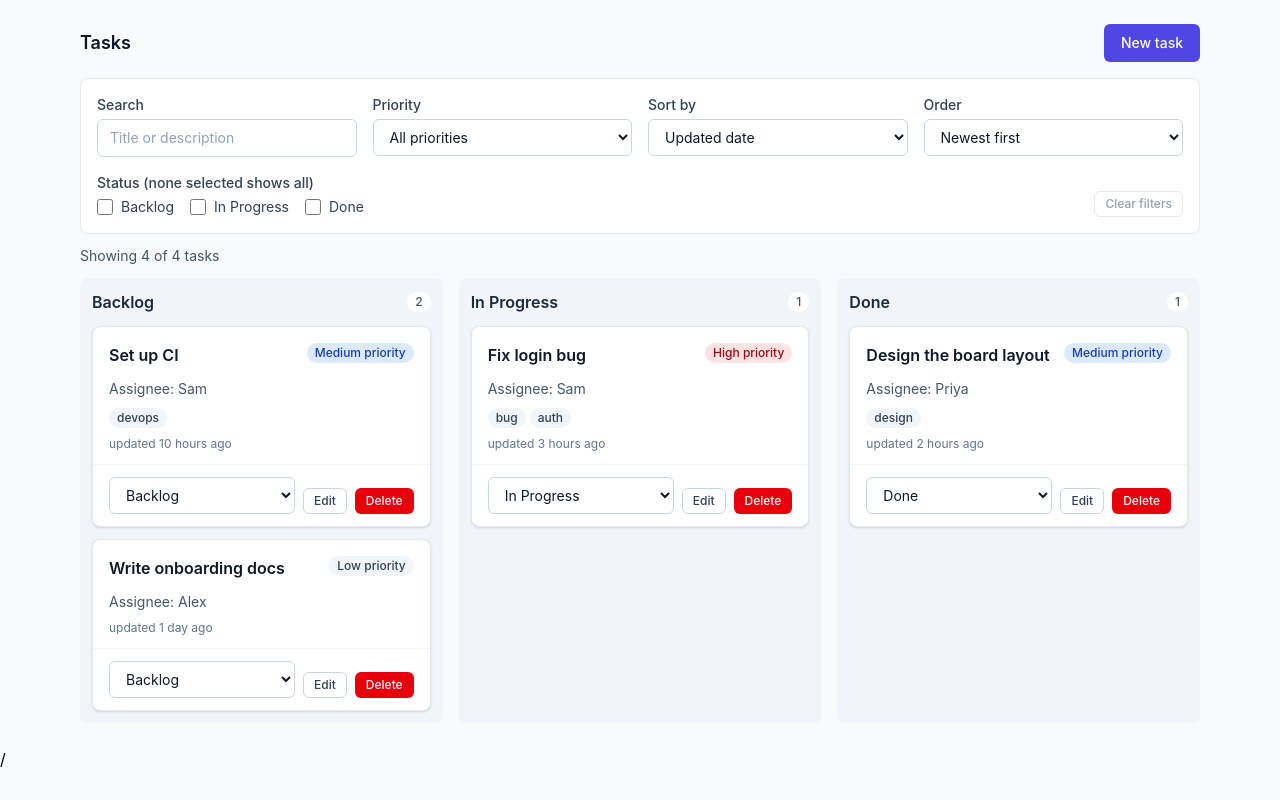
Test: TaskCard re-renders › does not re-render any card when only a dialog opens
Opening the dialog changes TaskBoard's state, but not the tasks or the filters.
What coordinates should you click on to do the following:
click the button "New task"
I would click on:
 (1152, 43)
Its box is x1=1104 y1=24 x2=1200 y2=62.
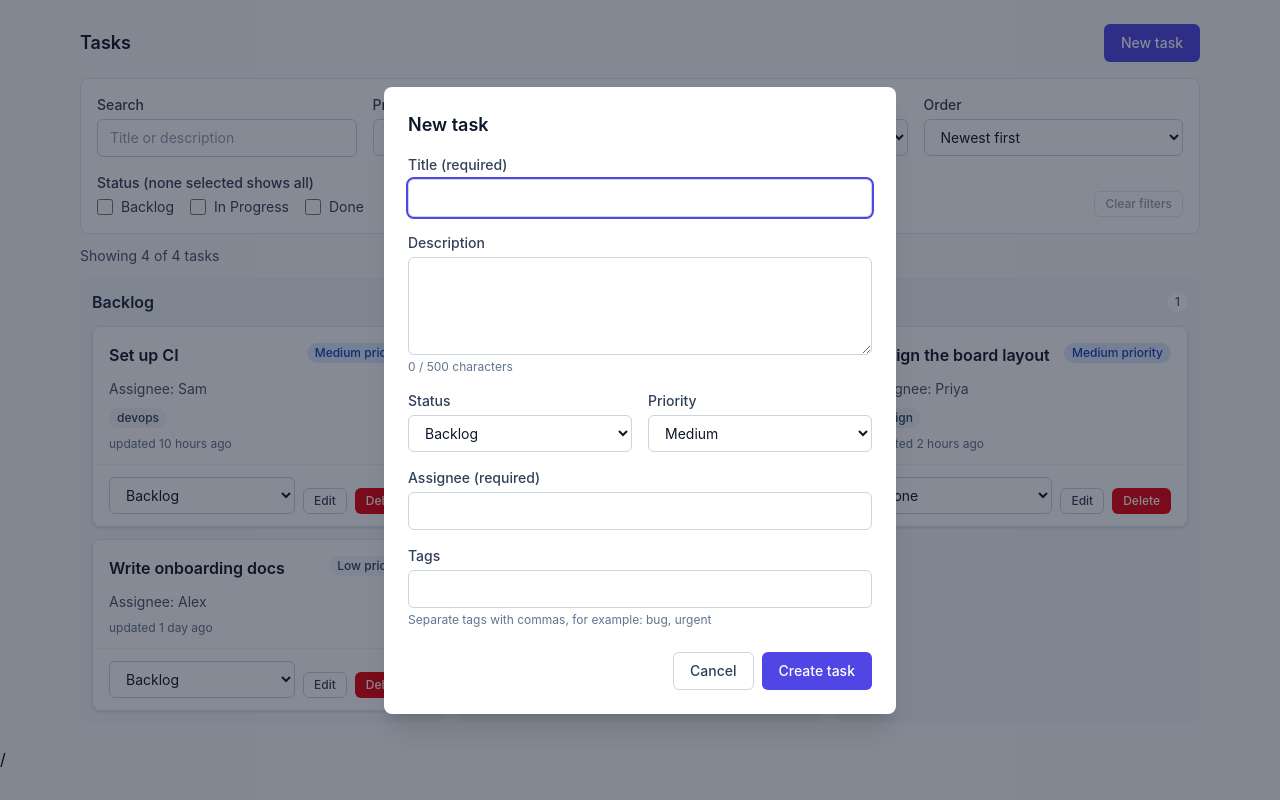
expect the dialog "New task" is shown: met, box x1=384 y1=86 x2=896 y2=714
